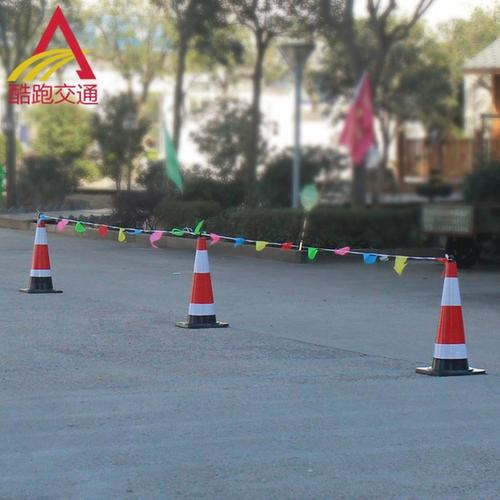cone_barrel: (415, 255, 479, 375), (175, 233, 224, 326), (16, 214, 61, 294)
